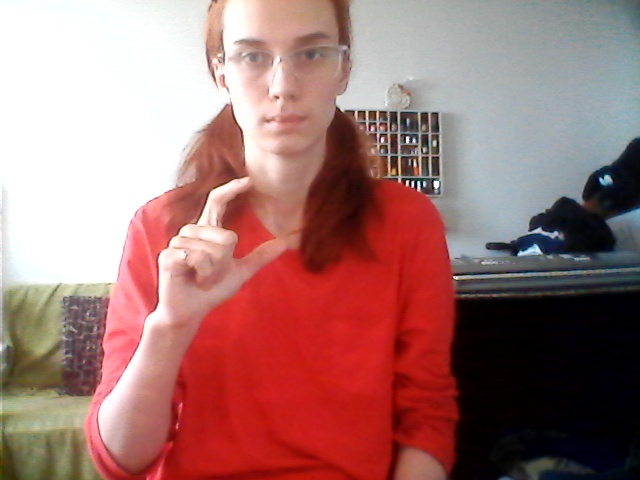c: (154, 176, 293, 322)
